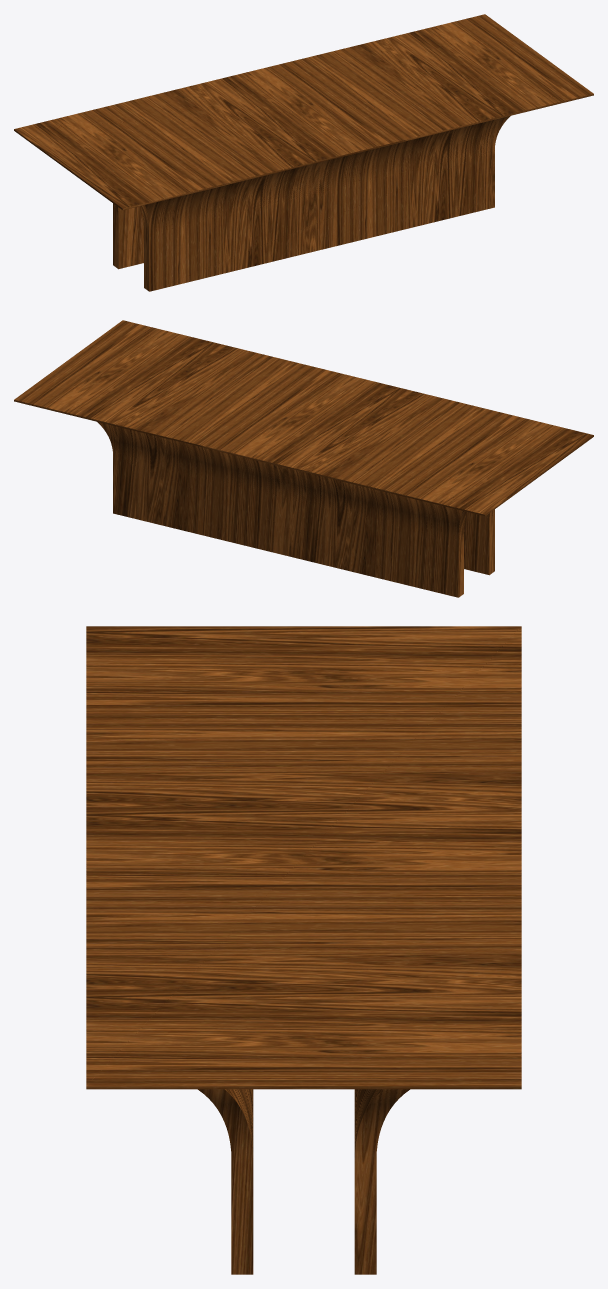
3 views of the same model, one above another, from view 1: azimuth 30°, elevation 25°; view 2: azimuth 150°, elevation 25°; view 3: azimuth 270°, elevation 25° (orthographic). The views are drawn at different scales.
Parts seen in each view (by area): view 1: Mesh1 Group1 Mesa_Jantar_Dora1 Model; view 2: Mesh1 Group1 Mesa_Jantar_Dora1 Model; view 3: Mesh1 Group1 Mesa_Jantar_Dora1 Model.
Boxes of the visible parts, bbox=[...] form: Mesh1 Group1 Mesa_Jantar_Dora1 Model: bbox=[14, 14, 593, 291]; Mesh1 Group1 Mesa_Jantar_Dora1 Model: bbox=[14, 320, 593, 597]; Mesh1 Group1 Mesa_Jantar_Dora1 Model: bbox=[86, 626, 521, 1274].
Bounding box in the file's own units: 15 × 3.8 × 6.
1 material, 1 textured.
